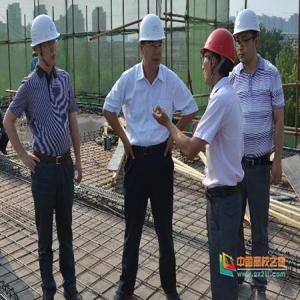red: (202, 27, 238, 86)
white: (138, 13, 168, 70), (30, 14, 59, 68), (234, 7, 261, 65)
